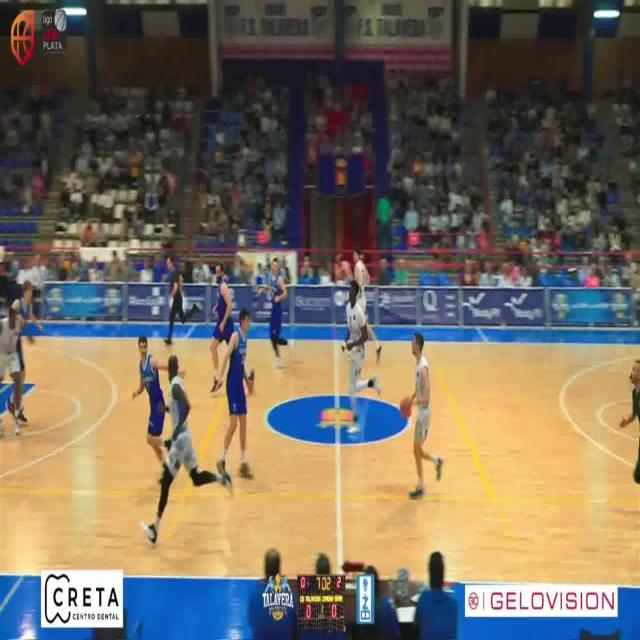ball: (400, 397, 412, 418)
player: (140, 355, 232, 544), (218, 308, 254, 479), (342, 280, 381, 433), (409, 331, 444, 500), (132, 334, 167, 464), (258, 257, 287, 368), (210, 263, 234, 391), (0, 307, 21, 434), (15, 279, 40, 377), (353, 249, 370, 314)
referee: (163, 258, 186, 345), (621, 359, 640, 428)
